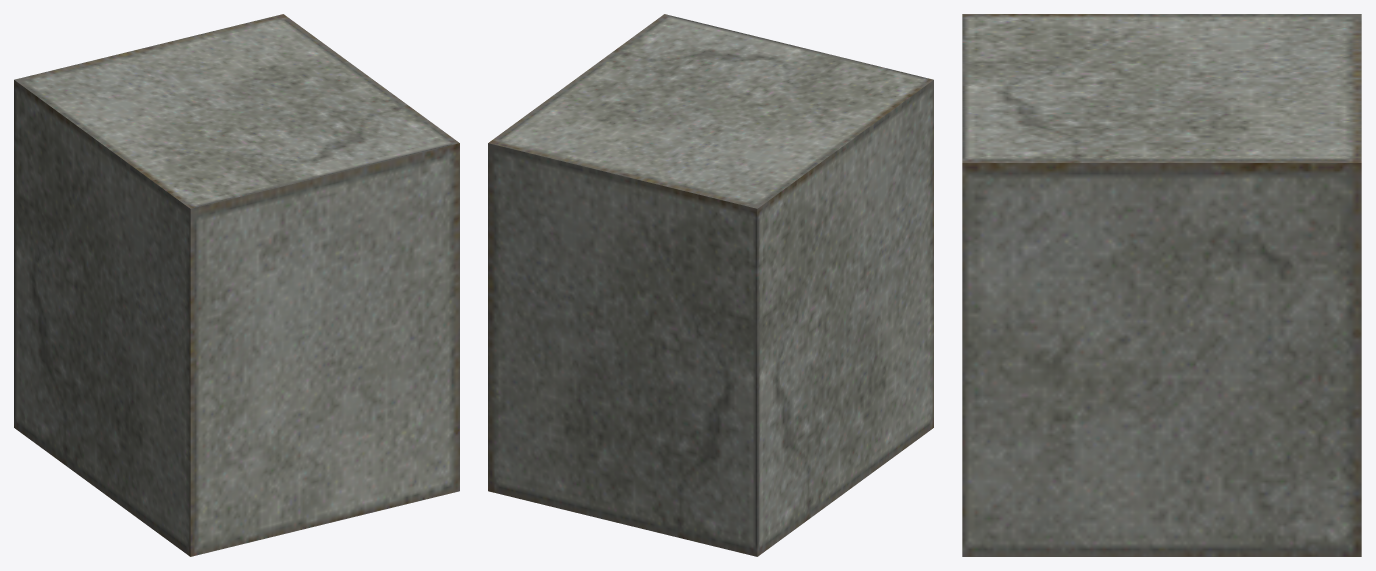
Rendered from plinth_block_a.fbx.
The picture shows the model from 3 angles, left to right: view 1: azimuth 30°, elevation 25°; view 2: azimuth 150°, elevation 25°; view 3: azimuth 270°, elevation 25°; orthographic projection. The views are drawn at different scales.
Visible parts, largest first — view 1: plinth_block_a; view 2: plinth_block_a; view 3: plinth_block_a.
Part boxes in pixels (x1=…): plinth_block_a: x1=14, y1=14, x2=459, y2=556; plinth_block_a: x1=488, y1=14, x2=933, y2=556; plinth_block_a: x1=962, y1=14, x2=1361, y2=556.
Size of the model in its own units: 21.6 by 26.67 by 24.5.
